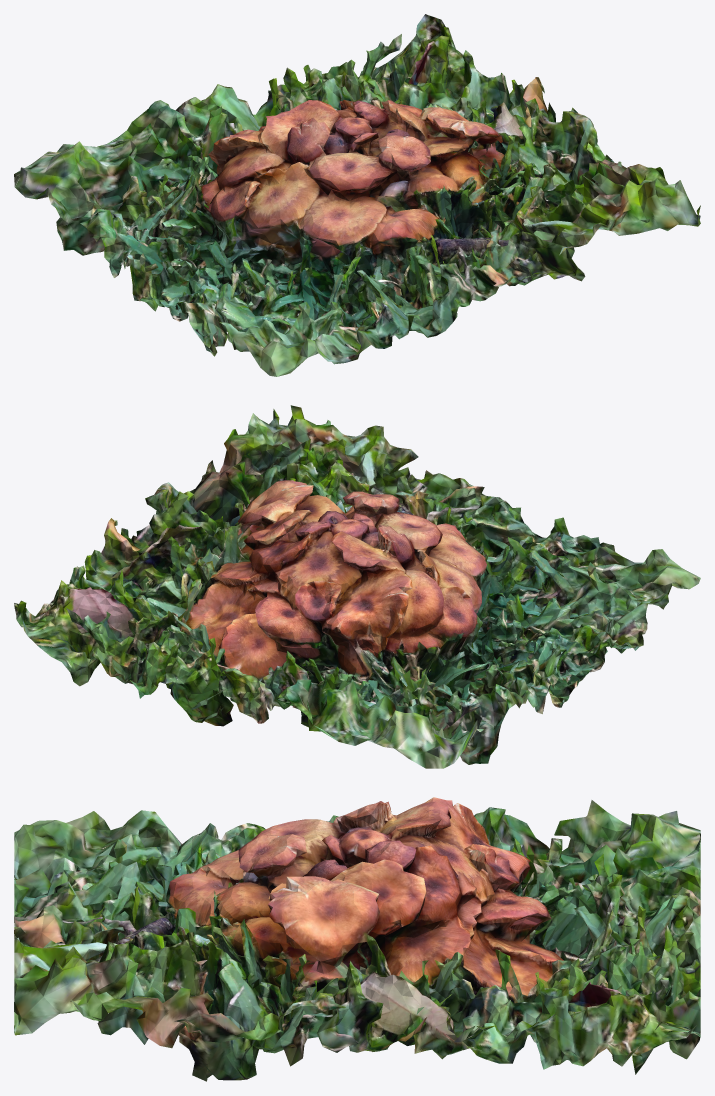
The model's file is ringless-honey-mushroom.glb.
The picture shows the model from 3 angles, top to bottom: view 1: azimuth 30°, elevation 25°; view 2: azimuth 150°, elevation 25°; view 3: azimuth 270°, elevation 25°; orthographic projection. The views are drawn at different scales.
Size of the model in its own units: 0.3099 by 0.1026 by 0.337.
Materials: 1 (1 with a texture image).
